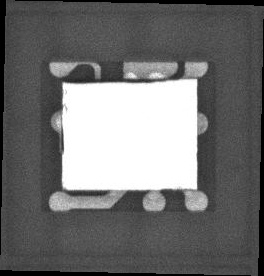DIE_BROKEN: (62, 78, 174, 85), (60, 85, 67, 157)
